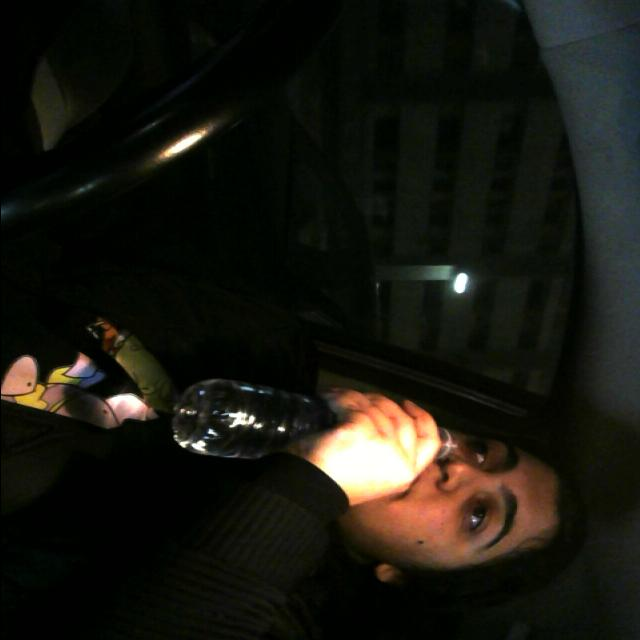drinking: (160, 356, 466, 496)
